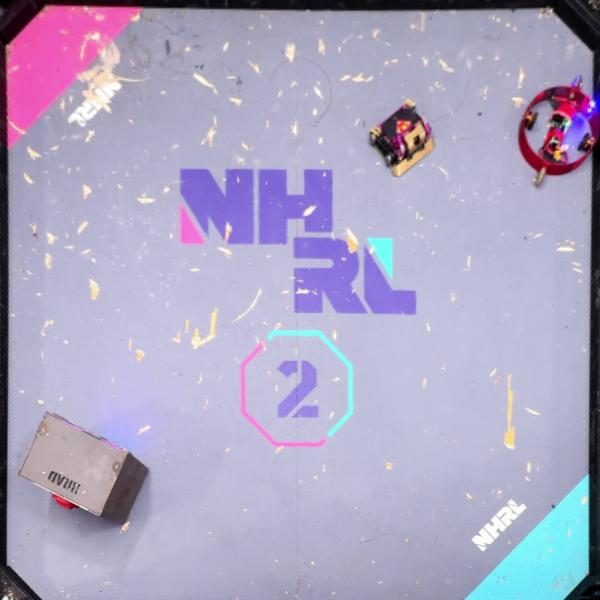housebot: (18, 411, 151, 525)
robot: (517, 75, 600, 187), (369, 100, 436, 178)
